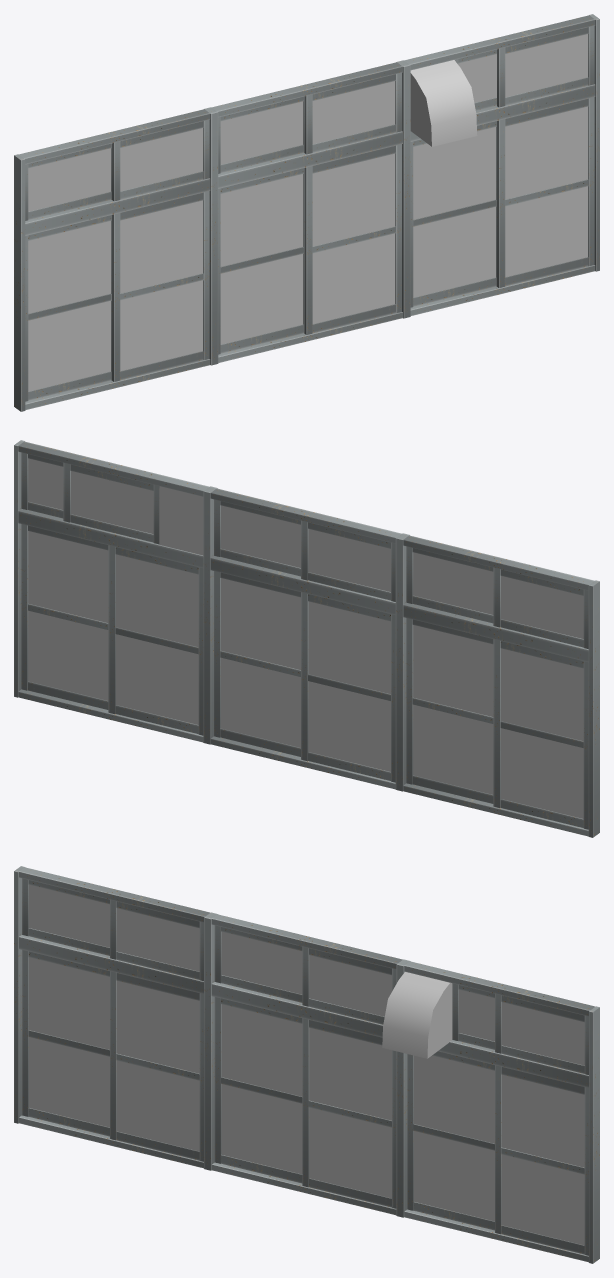
Rendered from bil_window_b3_4a.fbx.
The picture shows the model from 3 angles, top to bottom: view 1: azimuth 30°, elevation 25°; view 2: azimuth 150°, elevation 25°; view 3: azimuth 330°, elevation 25°; orthographic projection.
Parts seen in each view (by area): view 1: bil_window_b3_4a; view 2: bil_window_b3_4a; view 3: bil_window_b3_4a.
Part boxes in pixels (bbox=[...]): bil_window_b3_4a: bbox=[14, 14, 599, 411]; bil_window_b3_4a: bbox=[14, 440, 599, 837]; bil_window_b3_4a: bbox=[14, 866, 599, 1263].
Bounding box in the file's own units: 547 × 227 × 46.55.
